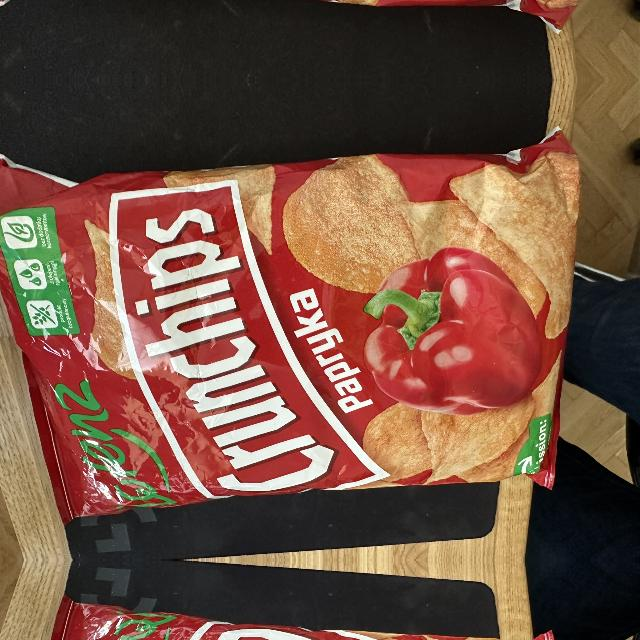crunchips: (110, 180, 392, 500)
